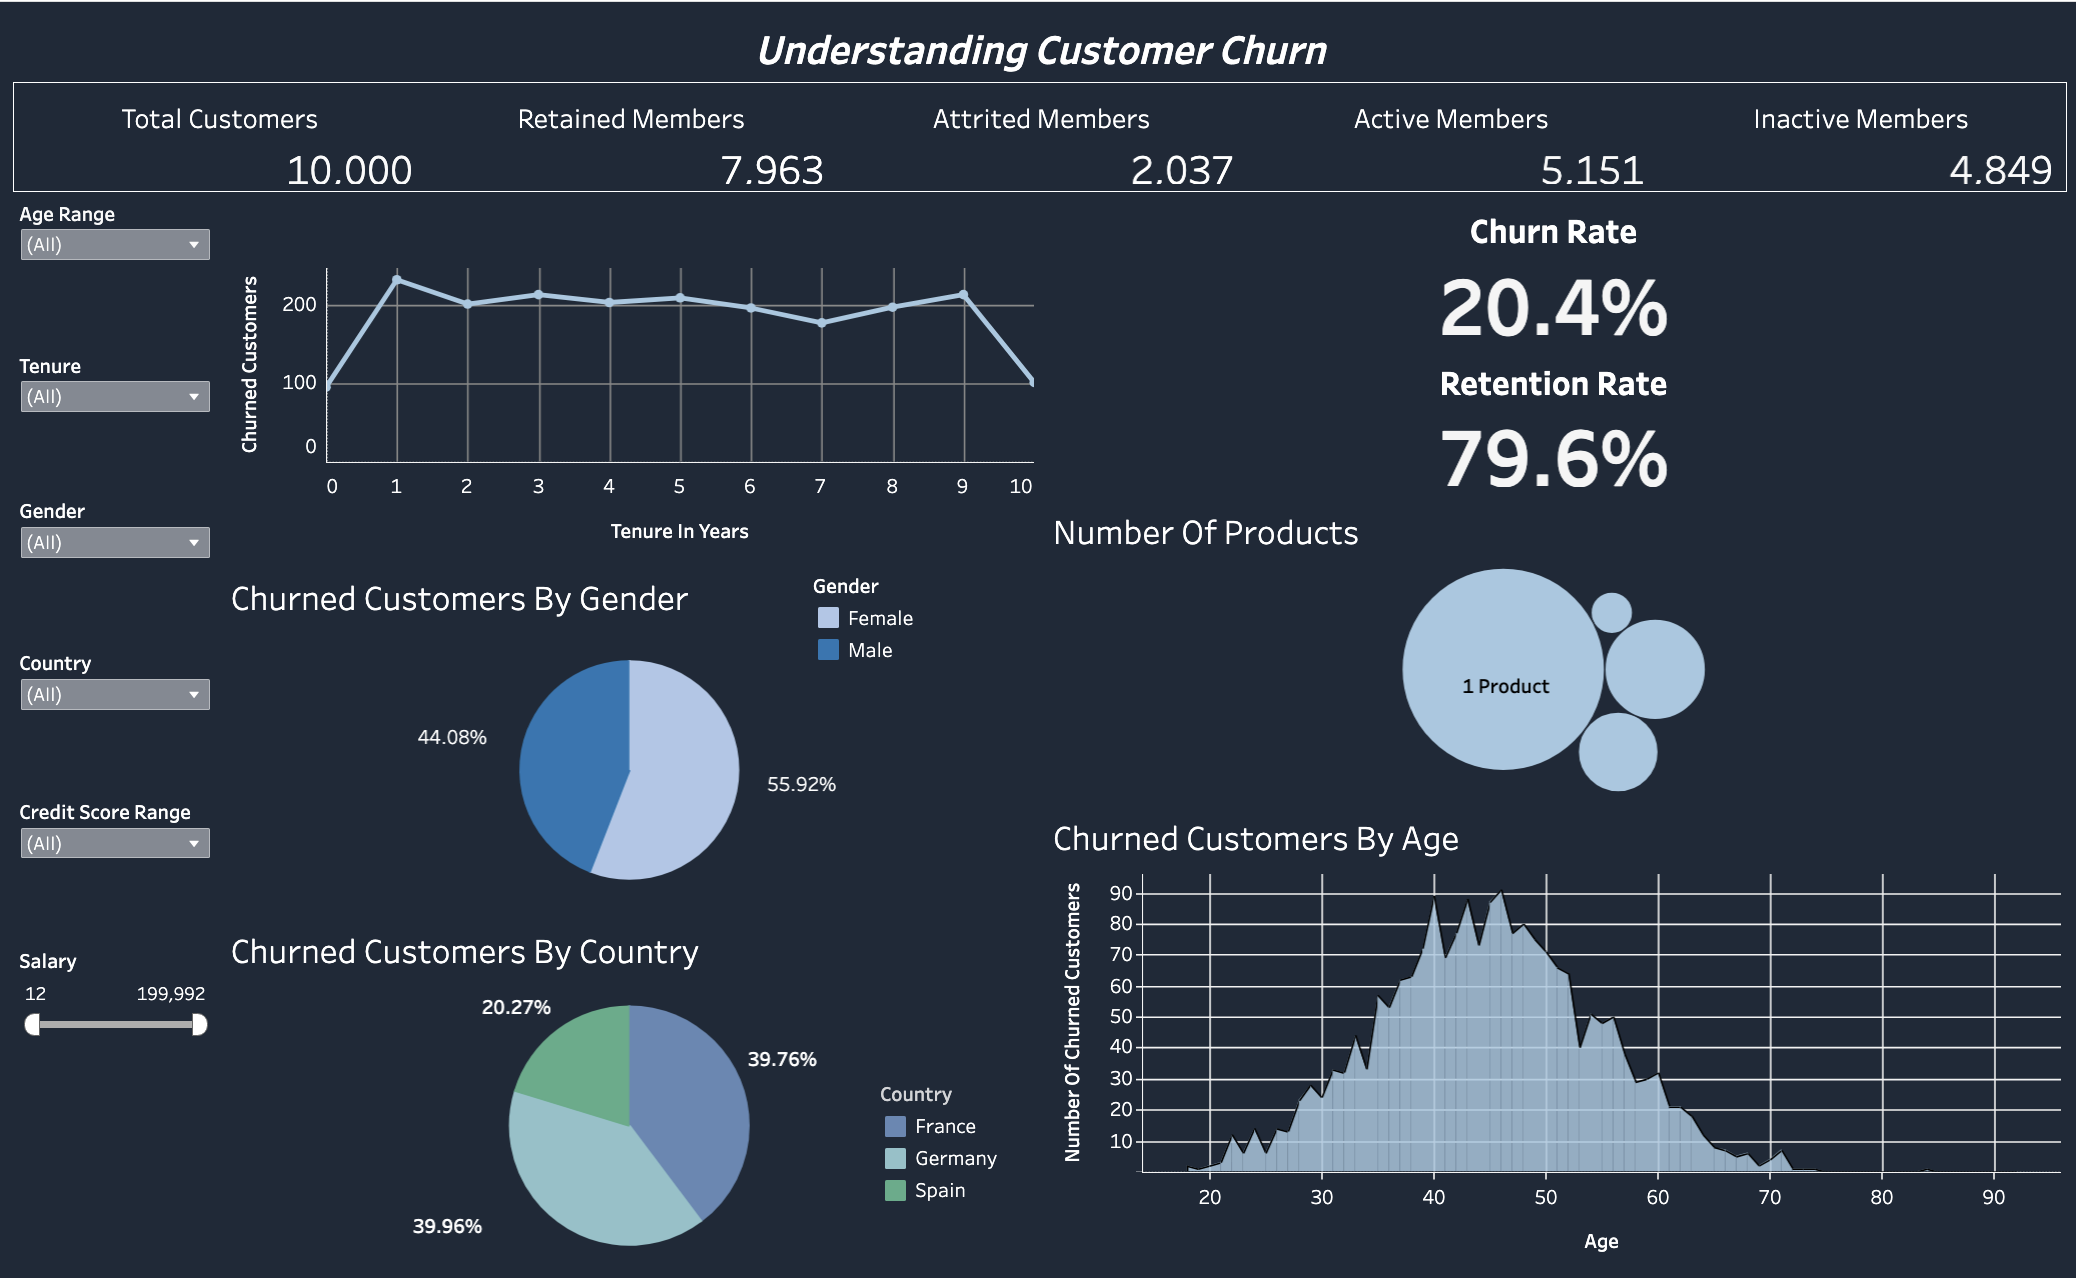

The page's visual inventory and layout, read from the dashboard file:
{"tool":"tableau","page":{"name":"Dashboard 1","canvas":[1300,800],"ordinal":0},"visuals":[{"type":"title","box":[8,8,1284,41]},{"type":"worksheet","title":"Total Customers","mark":"Automatic","box":[9,50,257,67]},{"type":"worksheet","title":"Retained Members","mark":"Automatic","box":[266,50,257,67]},{"type":"worksheet","title":"Attrited Members","mark":"Automatic","box":[523,50,256,67]},{"type":"worksheet","title":"Active Members","mark":"Automatic","box":[779,50,256,67]},{"type":"worksheet","title":"Inactive Members","mark":"Automatic","box":[1035,50,256,67]},{"type":"filter","title":"Active Members","param":"[federated.0mcmr8x0jqowgz10tngza15emesg].[none:age_bins:nk]","box":[8,118.4,128.3,94.8]},{"type":"worksheet","title":"Churn By Tenure","mark":"Automatic","rows":["Calculation_4107916224717967360"],"cols":["tenure"],"box":[136.3,118.4,513.5,228.6]},{"type":"worksheet","title":"Churn Percentage","mark":"Automatic","box":[649.8,118.4,642.2,94.6]},{"type":"worksheet","title":"Retain Rate","mark":"Automatic","box":[649.8,213,642.2,93]},{"type":"filter","title":"Churn By Tenure","param":"[federated.0mcmr8x0jqowgz10tngza15emesg].[none:tenure_bins:nk]","box":[8,213.1,128.3,91]},{"type":"filter","title":"Churn By Gender","param":"[federated.0mcmr8x0jqowgz10tngza15emesg].[none:gender:nk]","box":[8,304.1,128.3,95.7]},{"type":"worksheet","title":"Churn By Products","mark":"Circle","box":[649.8,306,642.2,191.1]},{"type":"worksheet","title":"Churn By Gender","mark":"Pie","box":[136.3,347,513.5,222]},{"type":"legend","title":"Churn By Gender","param":"[federated.0mcmr8x0jqowgz10tngza15emesg].[none:gender:nk]","box":[508.4,356.4,86.7,57.4]},{"type":"filter","title":"Churn By Country","param":"[federated.0mcmr8x0jqowgz10tngza15emesg].[none:country:nk]","box":[8,399.8,128.3,92.9]},{"type":"filter","title":"Churn By Gender","param":"[federated.0mcmr8x0jqowgz10tngza15emesg].[none:credit_score_bins:nk]","box":[8,492.7,128.3,92.9]},{"type":"worksheet","title":"Churn By Age","mark":"Area","rows":["Calculation_4107916224717967360"],"cols":["age"],"box":[649.8,497.1,642.2,294.9]},{"type":"worksheet","title":"Churn By Country","mark":"Pie","box":[136.3,569,513.5,223]},{"type":"filter","title":"Churn By Gender","param":"[federated.0mcmr8x0jqowgz10tngza15emesg].[none:salary:qk]","box":[8,585.6,128.3,206.4]},{"type":"legend","title":"Churn By Country","param":"[federated.0mcmr8x0jqowgz10tngza15emesg].[none:country:nk]","box":[549.6,674.3,105.7,77.2]}]}

Visuals, with their boxes in screenshot pixels (x1, y1, x2, y2), scaled from the page's 1300x800 canvas onto the 2076x1278 screenshot:
title: x1=13, y1=13, x2=2063, y2=78
"Total Customers" worksheet: x1=14, y1=80, x2=425, y2=187
"Retained Members" worksheet: x1=425, y1=80, x2=835, y2=187
"Attrited Members" worksheet: x1=835, y1=80, x2=1244, y2=187
"Active Members" worksheet: x1=1244, y1=80, x2=1653, y2=187
"Inactive Members" worksheet: x1=1653, y1=80, x2=2062, y2=187
"Active Members" filter: x1=13, y1=189, x2=218, y2=341
"Churn By Tenure" worksheet: x1=218, y1=189, x2=1038, y2=554
"Churn Percentage" worksheet: x1=1038, y1=189, x2=2063, y2=340
"Retain Rate" worksheet: x1=1038, y1=340, x2=2063, y2=489
"Churn By Tenure" filter: x1=13, y1=340, x2=218, y2=486
"Churn By Gender" filter: x1=13, y1=486, x2=218, y2=639
"Churn By Products" worksheet (Circle marks): x1=1038, y1=489, x2=2063, y2=794
"Churn By Gender" worksheet (Pie marks): x1=218, y1=554, x2=1038, y2=909
"Churn By Gender" legend: x1=812, y1=569, x2=950, y2=661
"Churn By Country" filter: x1=13, y1=639, x2=218, y2=787
"Churn By Gender" filter: x1=13, y1=787, x2=218, y2=935
"Churn By Age" worksheet (Area marks): x1=1038, y1=794, x2=2063, y2=1265
"Churn By Country" worksheet (Pie marks): x1=218, y1=909, x2=1038, y2=1265
"Churn By Gender" filter: x1=13, y1=935, x2=218, y2=1265
"Churn By Country" legend: x1=878, y1=1077, x2=1046, y2=1201
